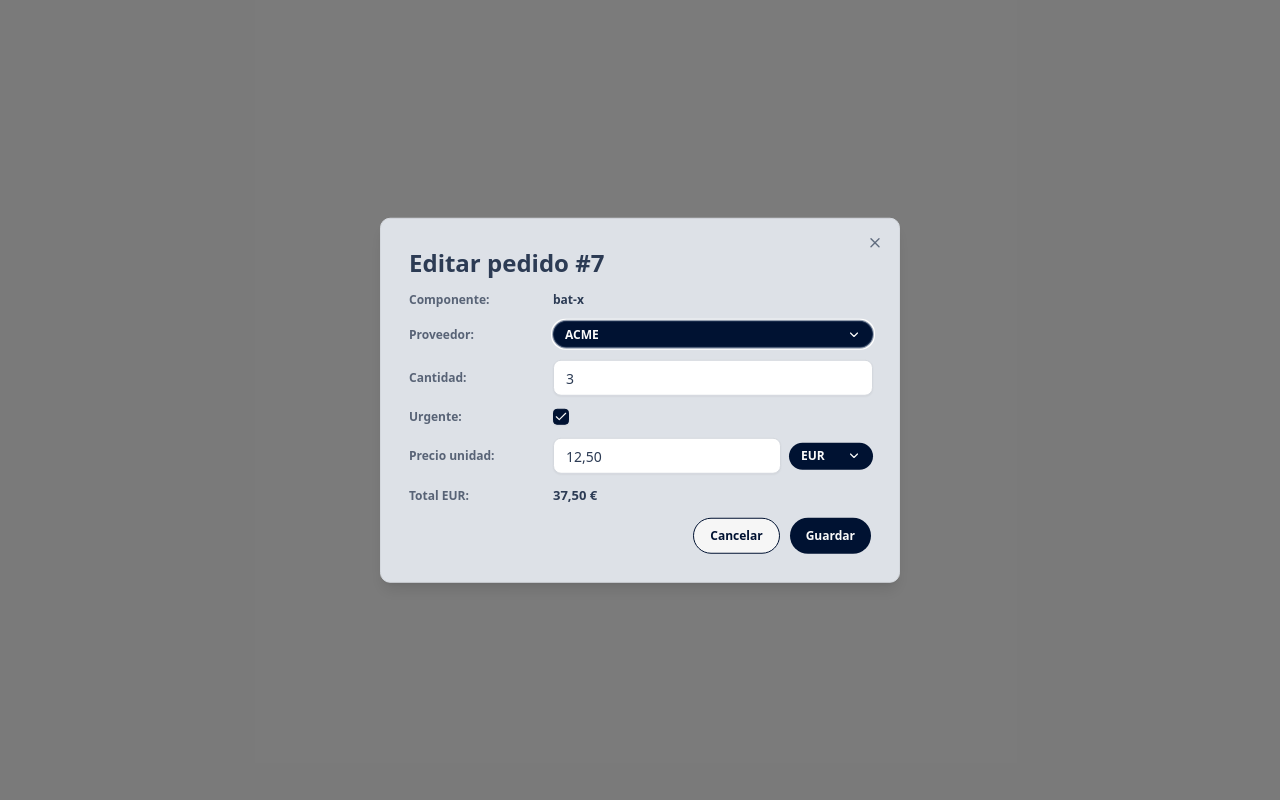
«Editar pedido» cambiando el proveedor (0.9.9, spec §6.6) › el campo Bloque solo ofrece los bloques vivos del proveedor nuevo y «Bloque nuevo»
Expected: the dialog "Editar pedido #7" is shown, [380,218,900,582]
Click the dropdown named "Proveedor". click: x=582, y=334
box: [553,321,873,348]
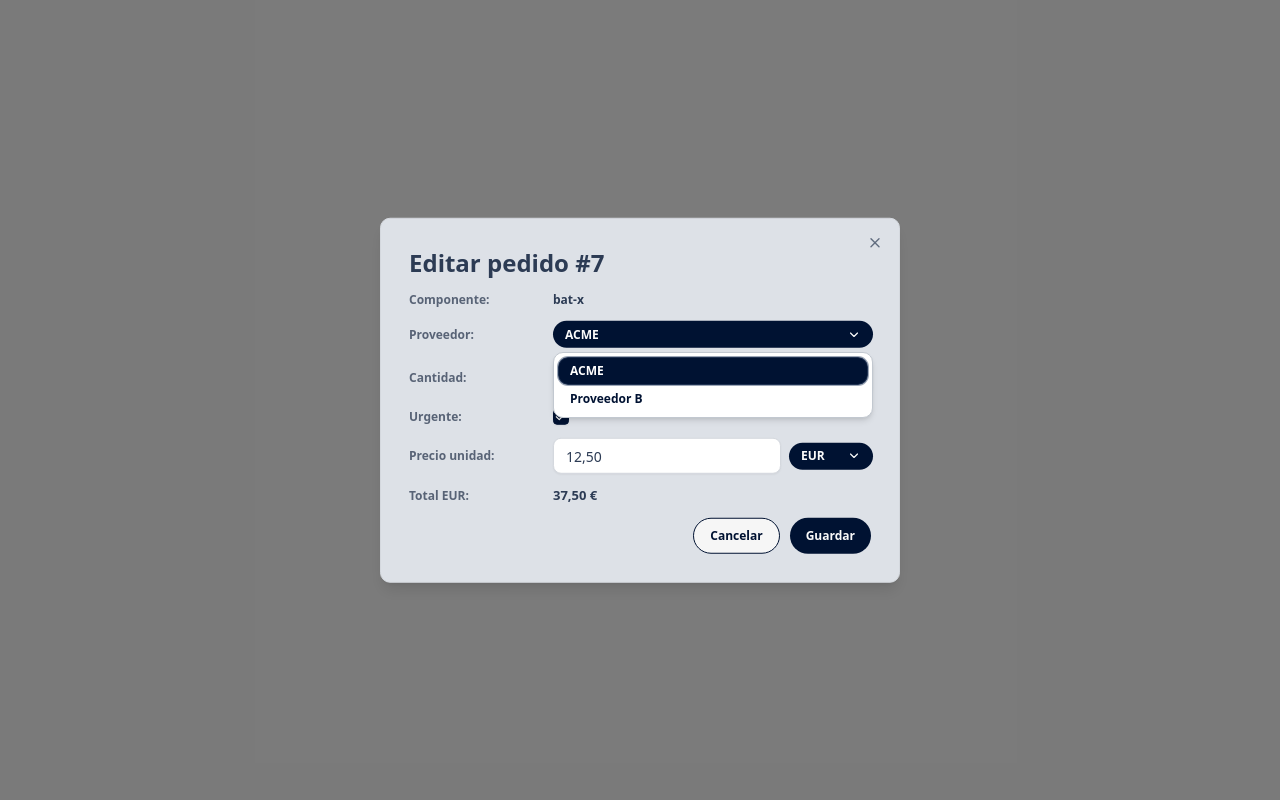
Click the button "Proveedor B". click: x=606, y=398
box: [558,385,868,413]
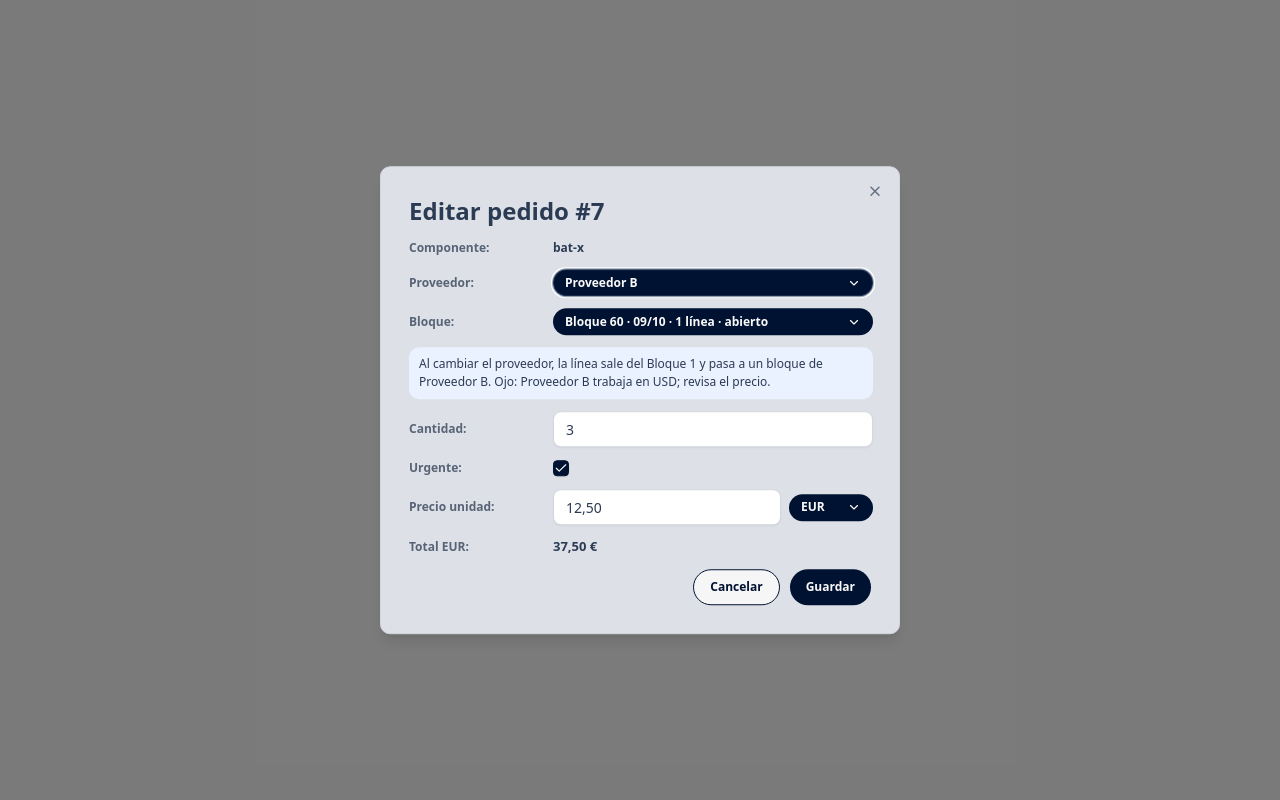
Click the dropdown labelled "Bloque". click: x=713, y=322
box: [553,308,873,335]
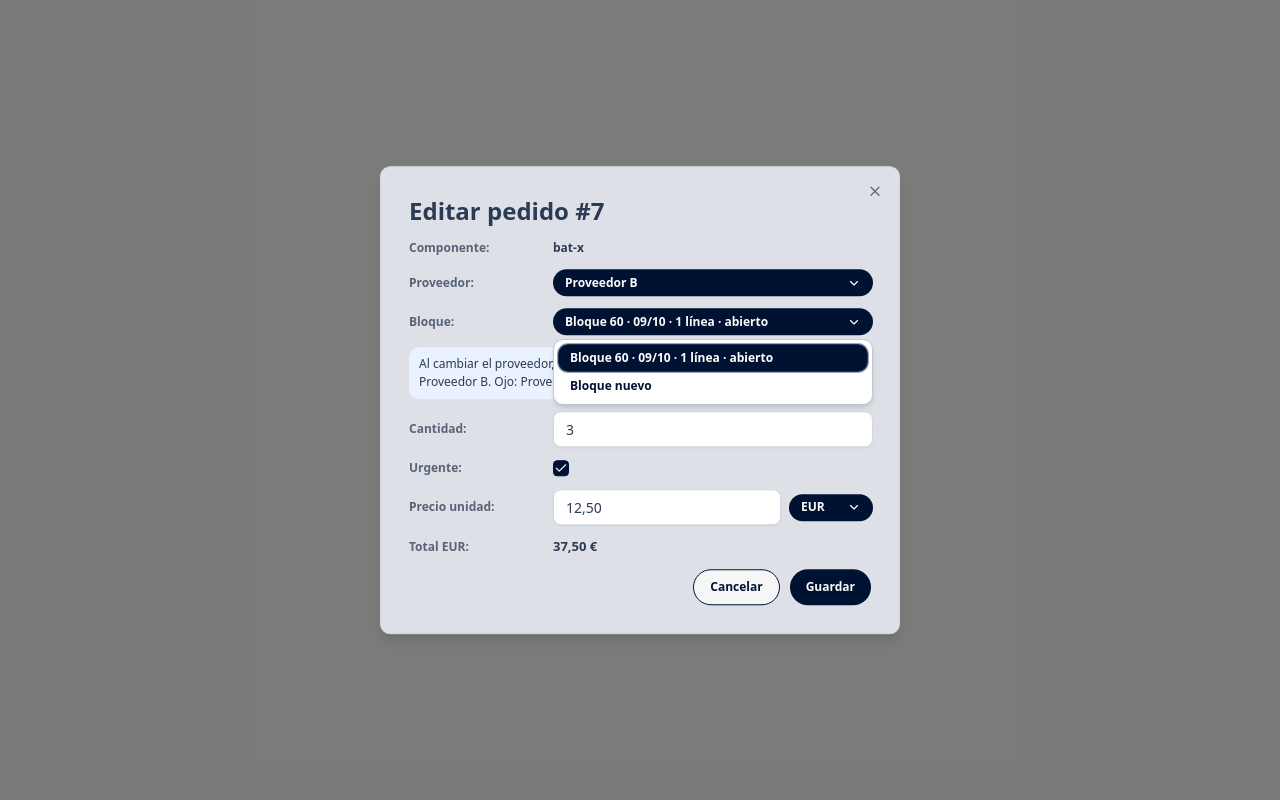
Expected: the text "Bloque nuevo" is shown, [570,377,652,395]
